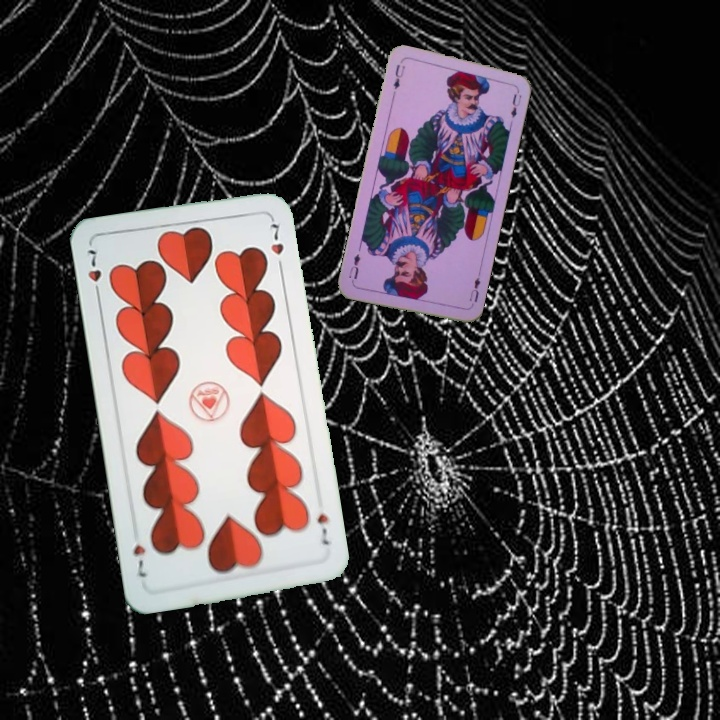EU: (465, 269, 483, 310), (389, 61, 408, 92)
H7: (83, 245, 104, 302), (313, 510, 332, 548)
